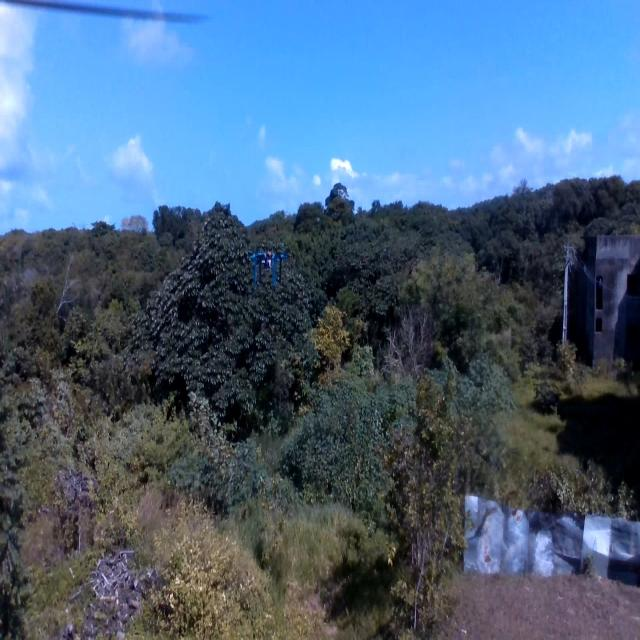-uav-: (231, 229, 303, 302)
